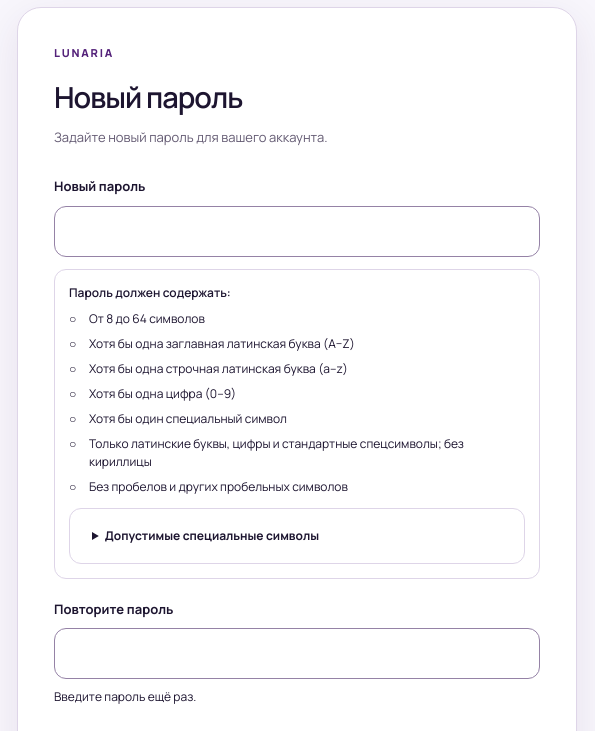
Test case: expired server token shows error without logging out or losing retry input
Type "Abcdef1!" into the password field labelled "Новый пароль" at (297, 231), box [54,206,540,257]
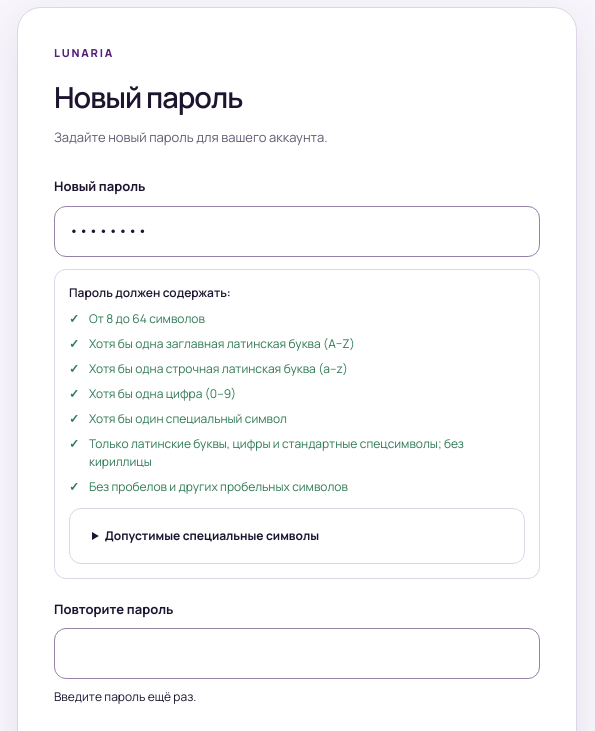
Type "Abcdef1!" into the password field labelled "Повторите пароль" at (297, 653), box [54,628,540,679]
(page scrolled)
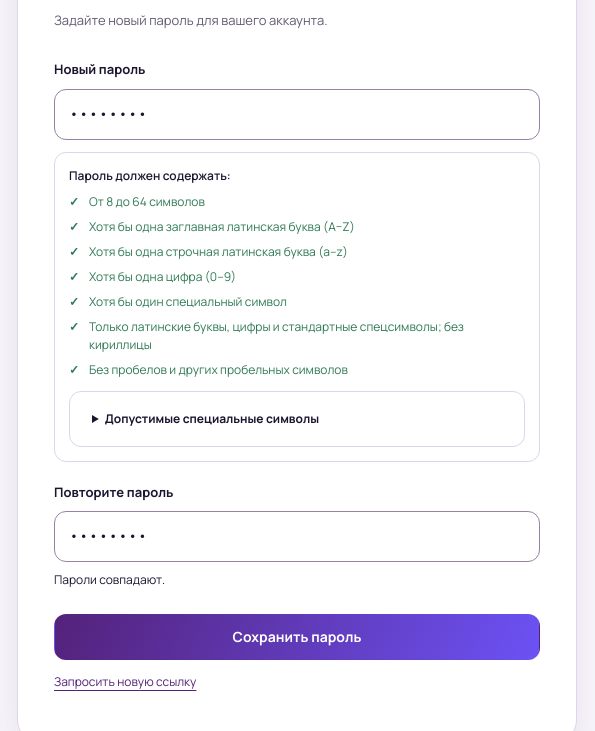
Submit the form
(page scrolled)
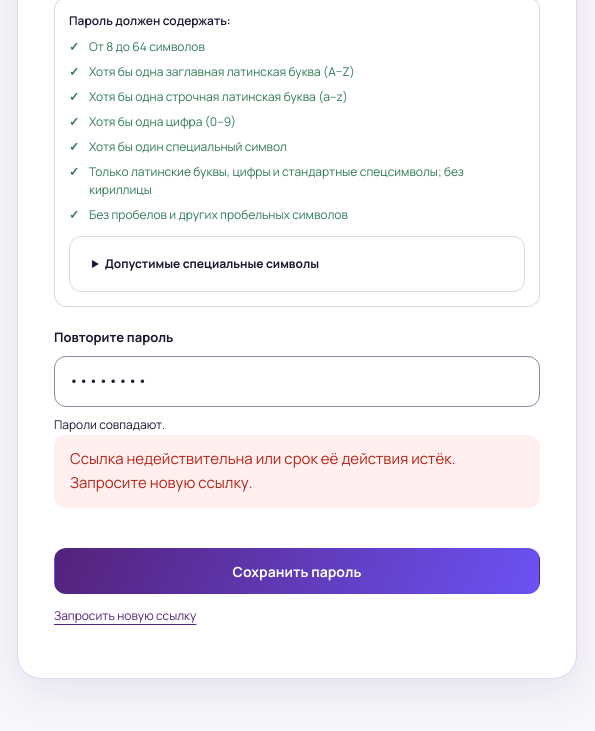
Result: the submit button is enabled at [54,548,540,594]
Result: the text "Запросите новую ссылку" is shown at [70,448,456,493]
